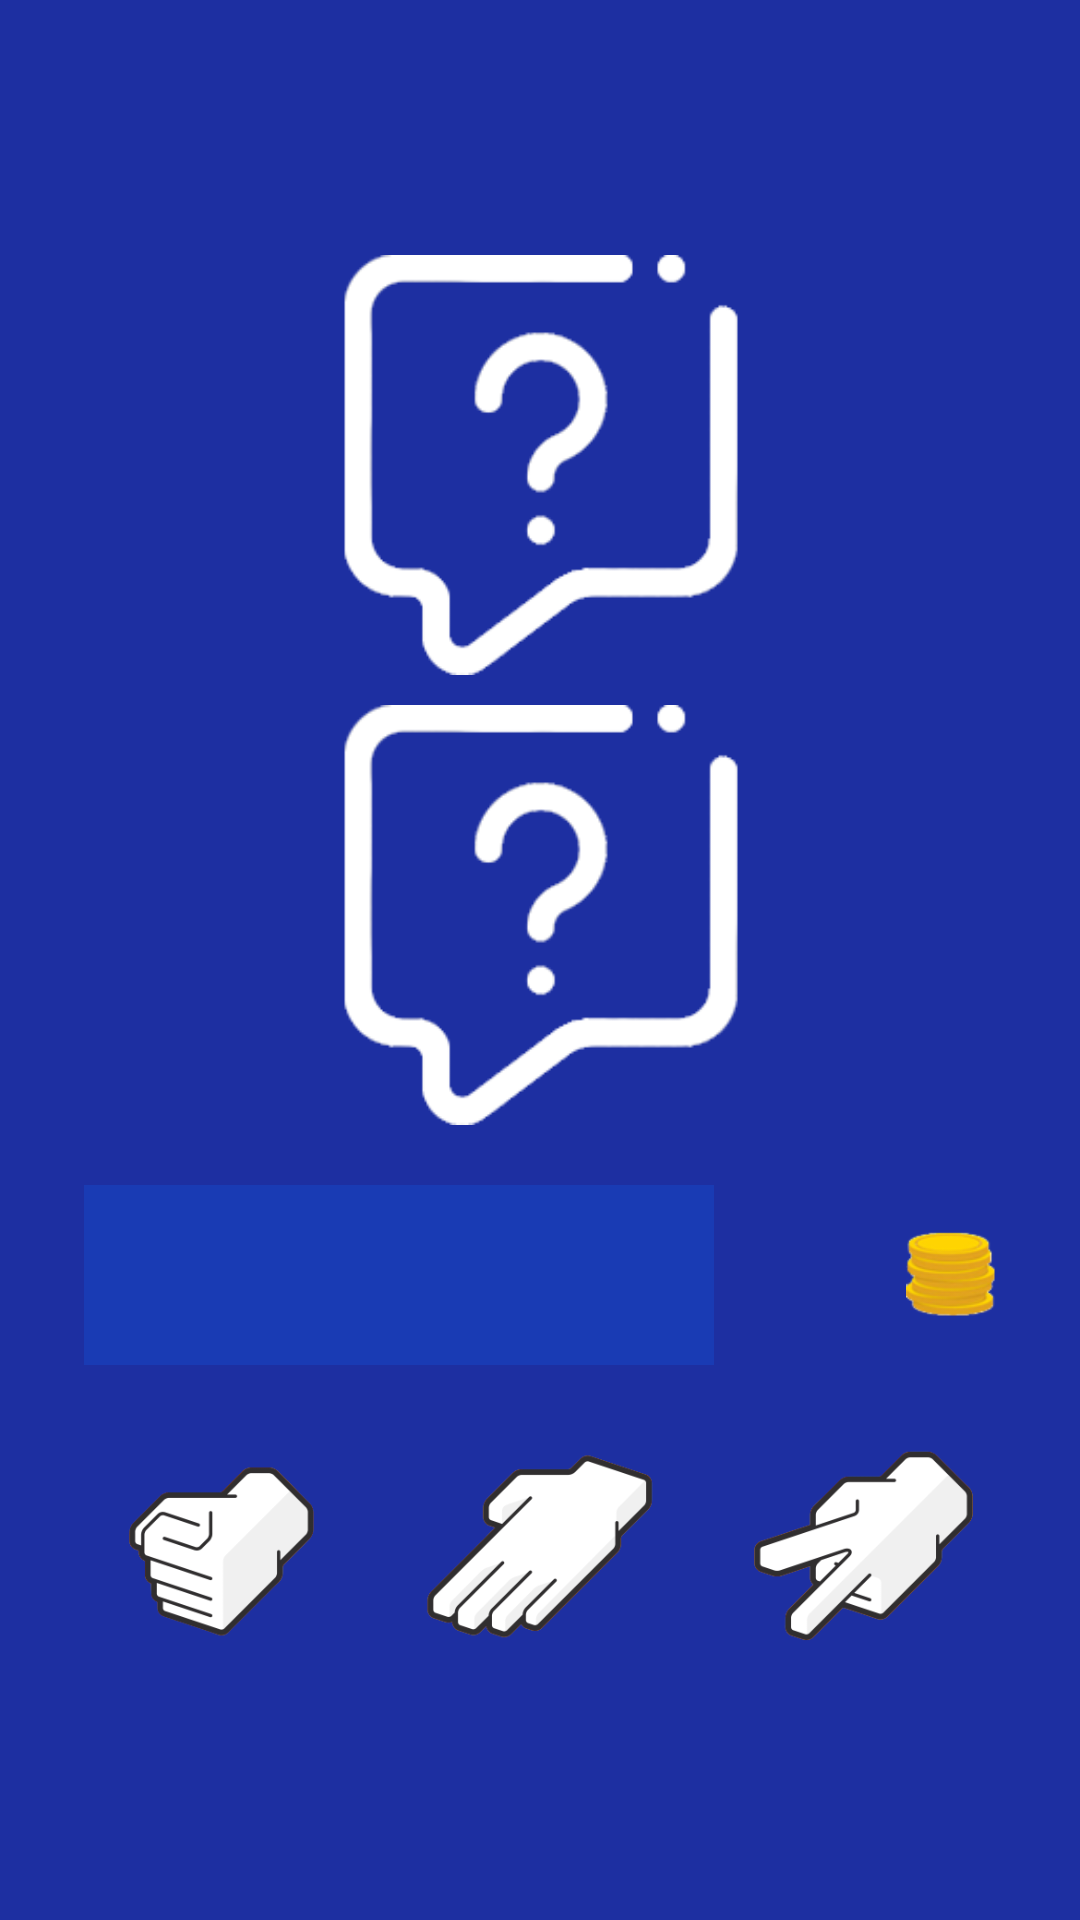

Locate icon controls on the screen. Image size 1080px x 1920px, boxes as (x1,y1,x2,y2).
money: (906,1232,995,1316)
